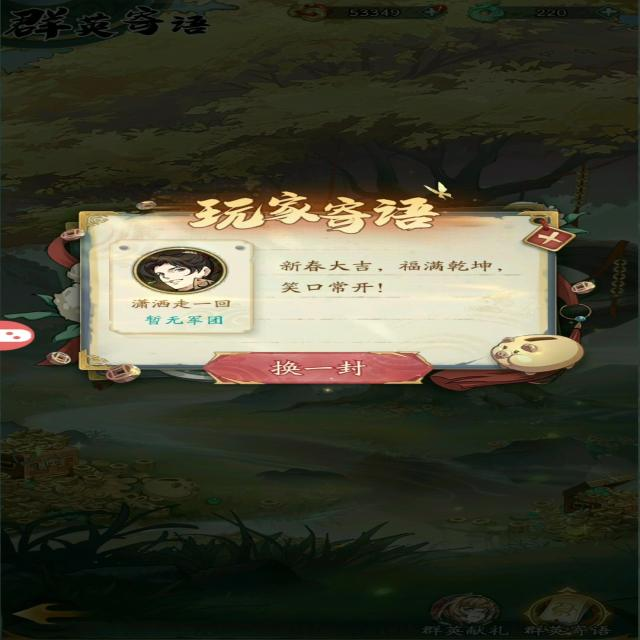operation-close: (502, 220, 577, 255)
operation-enter: (192, 352, 424, 388)
